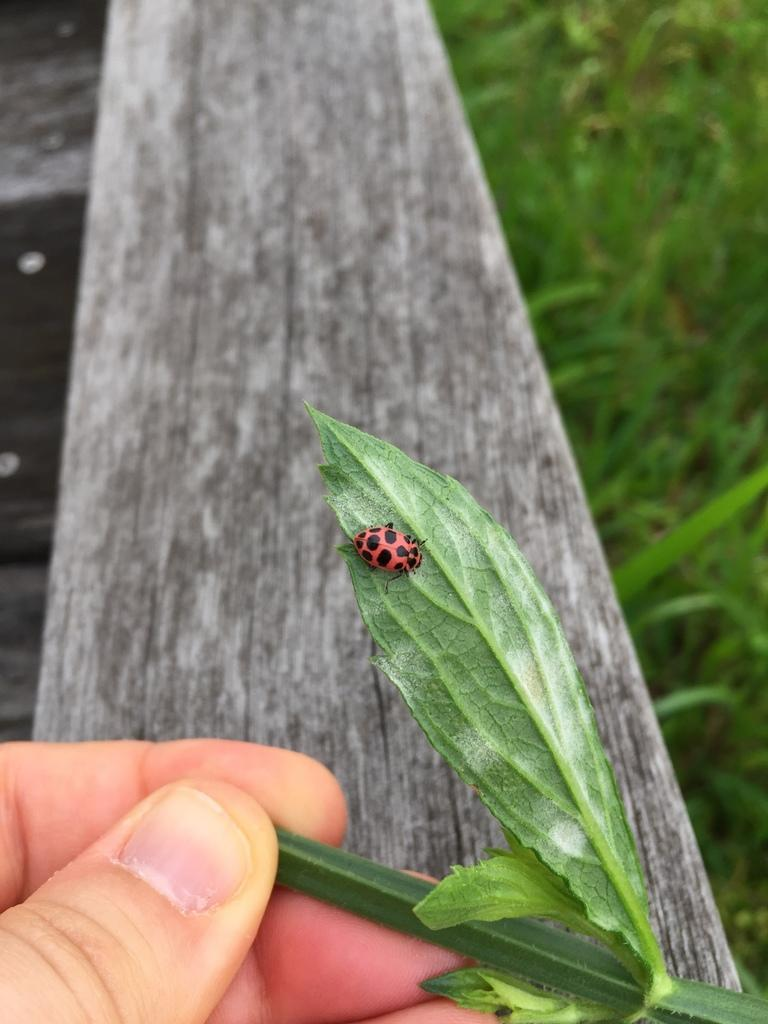ladybug: (354, 521, 431, 595)
